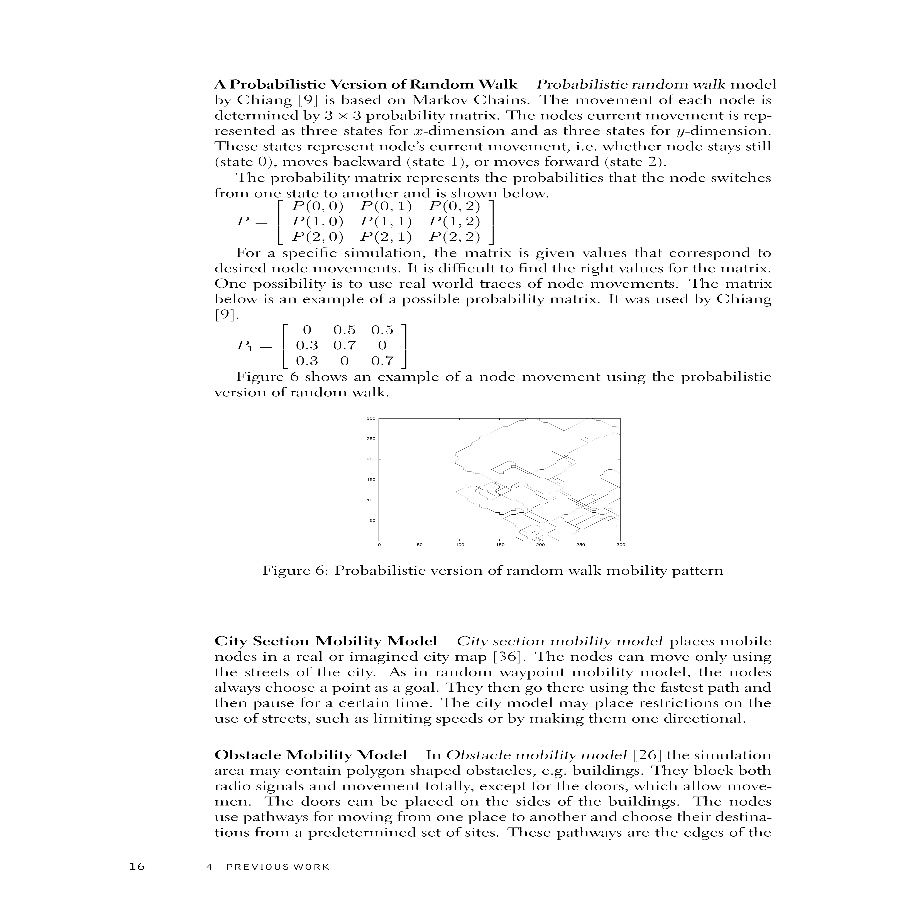eq: (234, 200, 503, 245), (235, 322, 415, 370)
